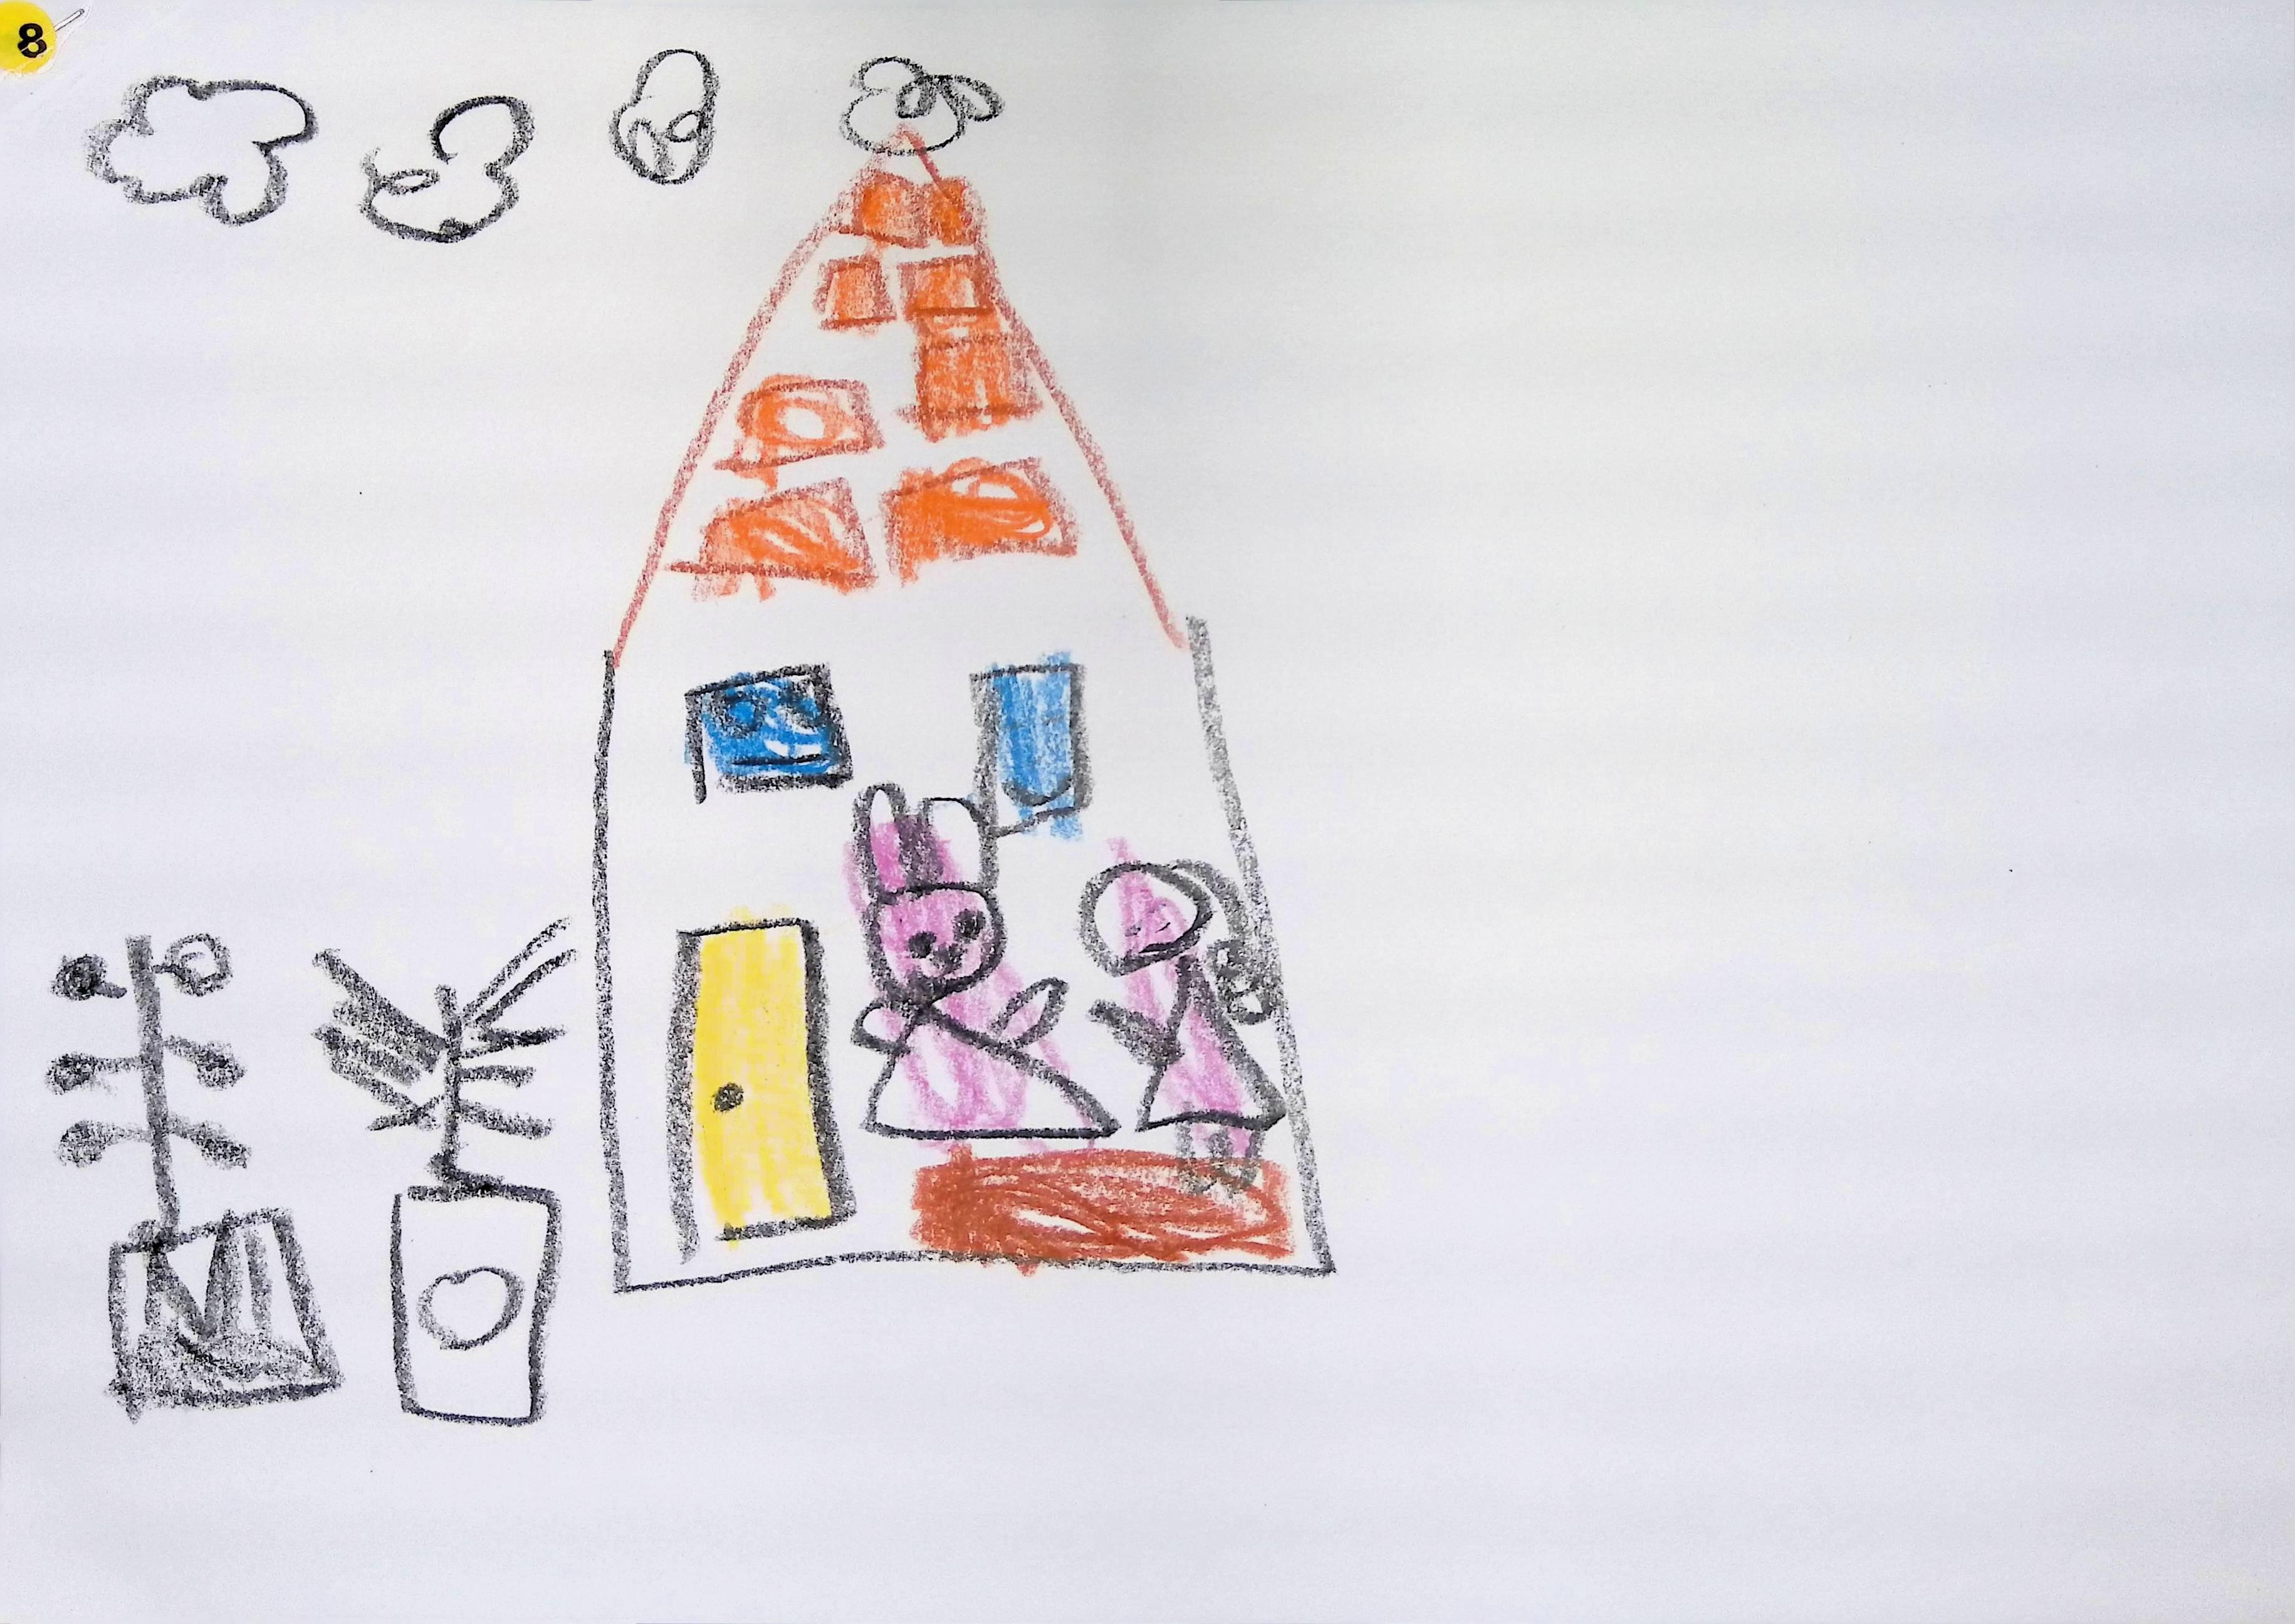door: (666, 917, 852, 1262)
house: (592, 146, 1332, 1290)
window: (684, 664, 851, 801), (972, 652, 1091, 837)
